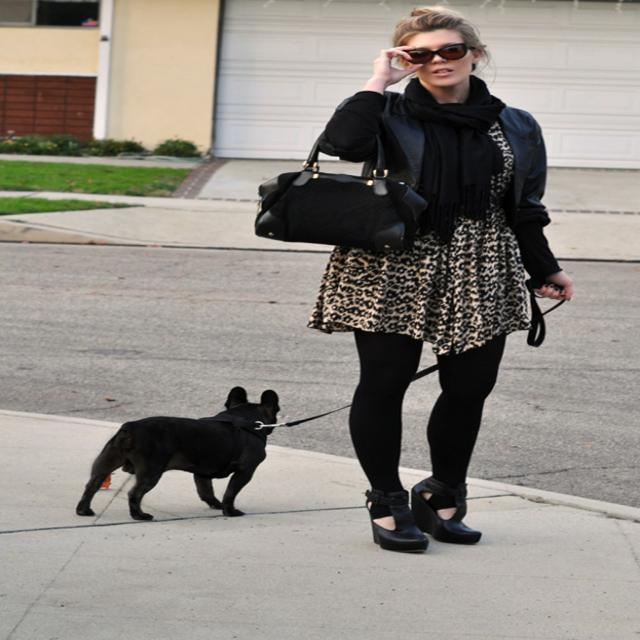Dog: (75, 386, 284, 520)
